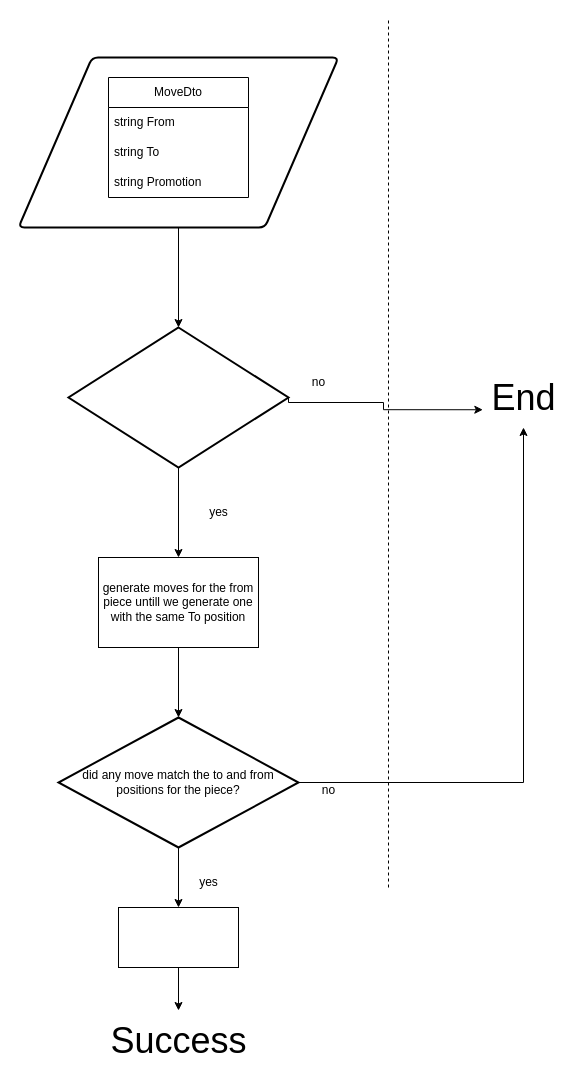
This 585x1088 diagram has some shape labels left out. Each missing label, with the box of its shape:
apply move on the board: (118, 906, 238, 968)
Is the player moving his own piece?: (67, 326, 289, 468)
